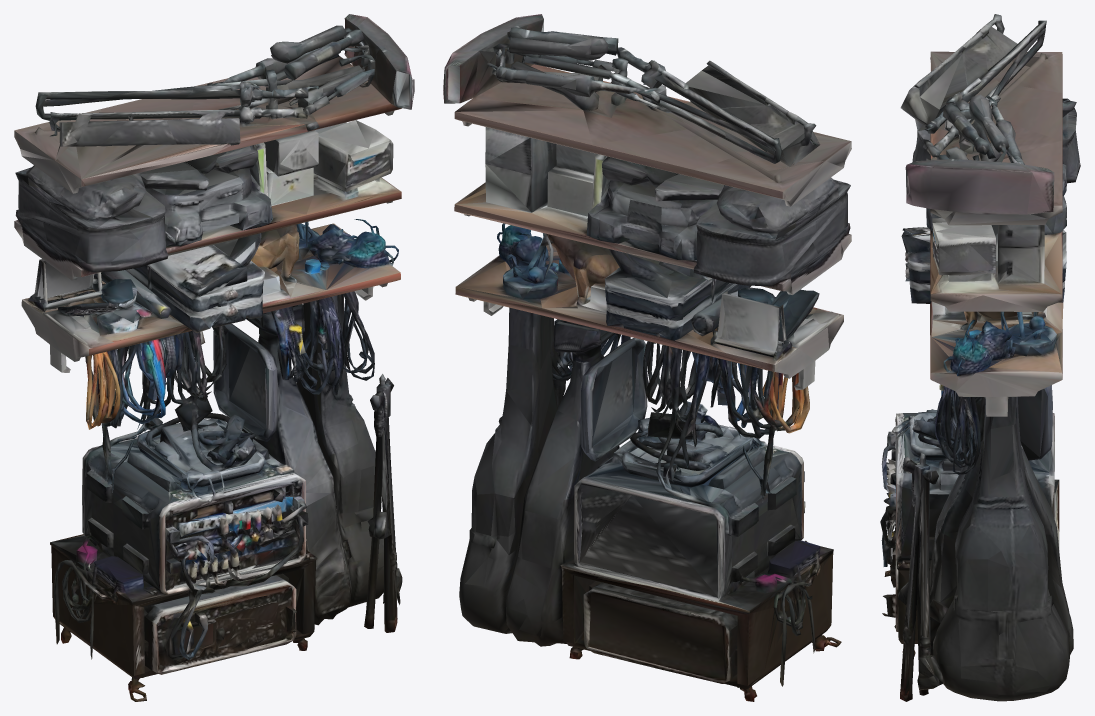
Rendered from consola.fbx.
3 renders of one model, left to right at view 1: azimuth 30°, elevation 25°; view 2: azimuth 150°, elevation 25°; view 3: azimuth 270°, elevation 25°, orthographic. The views are drawn at different scales.
Visible parts, largest first — view 1: tripo_node_2296f747; view 2: tripo_node_2296f747; view 3: tripo_node_2296f747.
Boxes of the visible parts, x1,y1,x2,y2 form: tripo_node_2296f747: (14, 14, 414, 701); tripo_node_2296f747: (443, 14, 851, 701); tripo_node_2296f747: (880, 14, 1080, 701).
Size of the model in its own units: 60.23 by 98.04 by 31.29.
